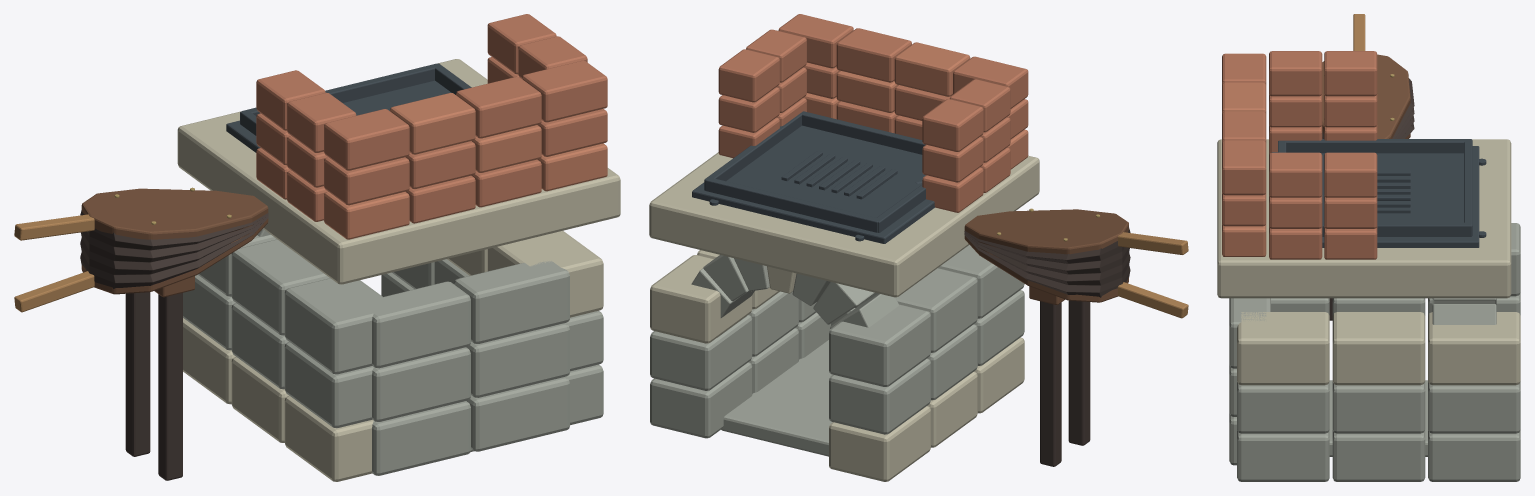
File: smithy_cold_forge.glb
The picture shows the model from 3 angles, left to right: view 1: azimuth 30°, elevation 25°; view 2: azimuth 150°, elevation 25°; view 3: azimuth 270°, elevation 25°; orthographic projection. The views are drawn at different scales.
Parts seen in each view (by area): view 1: Hearth bearing slab.001, Bellows upper board.001, Dressed pier course.030, Back wall course.011, Folded leather chamber.001, Back wall course.010, Back wall course.007, Back wall course.009, Back wall course.006, Back wall course.008, Dressed pier course.031, Dressed pier course.024 (+38 smaller); view 2: Hearth bearing slab.001, Cold pan.001, Ash chamber floor.001, Dressed pier course.032, Bellows upper board.001, Folded leather chamber.001, Dressed pier course.035, Dressed pier course.029, Dressed pier course.026, Dressed pier course.020, Dressed pier course.023, Dressed pier course.031 (+46 smaller); view 3: Hearth bearing slab.001, Cold pan.001, Dressed pier course.034, Dressed pier course.033, Dressed pier course.035, Dressed pier course.028, Dressed pier course.022, Dressed pier course.027, Dressed pier course.029, Dressed pier course.023, Dressed pier course.021, Pan rim.004 (+33 smaller).
Boxes of the visible parts, <box> form: Hearth bearing slab.001: <box>177,59,620,284</box>; Bellows upper board.001: <box>81,188,268,239</box>; Dressed pier course.030: <box>284,278,395,374</box>; Back wall course.011: <box>454,261,569,343</box>; Folded leather chamber.001: <box>80,210,268,288</box>; Back wall course.010: <box>372,281,470,368</box>; Back wall course.007: <box>467,377,569,451</box>; Back wall course.009: <box>466,323,569,397</box>; Back wall course.006: <box>372,401,470,475</box>; Back wall course.008: <box>372,347,470,421</box>; Dressed pier course.031: <box>231,239,329,335</box>; Dressed pier course.024: <box>284,342,373,428</box>; Hearth bearing slab.001: <box>649,152,1039,297</box>; Cold pan.001: <box>692,125,934,243</box>; Ash chamber floor.001: <box>721,340,832,456</box>; Dressed pier course.032: <box>829,304,930,386</box>; Bellows upper board.001: <box>964,209,1128,254</box>; Folded leather chamber.001: <box>964,228,1130,297</box>; Dressed pier course.035: <box>650,255,752,343</box>; Dressed pier course.029: <box>650,315,752,390</box>; Dressed pier course.026: <box>829,358,930,434</box>; Dressed pier course.020: <box>829,406,930,481</box>; Dressed pier course.023: <box>650,362,752,438</box>; Dressed pier course.031: <box>895,268,977,352</box>; Hearth bearing slab.001: <box>1217,139,1511,298</box>; Cold pan.001: <box>1271,146,1479,247</box>; Dressed pier course.034: <box>1332,312,1425,385</box>; Dressed pier course.033: <box>1237,312,1329,385</box>; Dressed pier course.035: <box>1428,312,1520,385</box>; Dressed pier course.028: <box>1332,381,1425,433</box>; Dressed pier course.022: <box>1332,430,1425,481</box>; Dressed pier course.027: <box>1237,381,1329,433</box>; Dressed pier course.029: <box>1428,381,1520,433</box>; Dressed pier course.023: <box>1428,429,1520,481</box>; Dressed pier course.021: <box>1237,430,1329,481</box>; Pan rim.004: <box>1279,139,1471,153</box>.
Size of the model in its own units: 2.23 by 1.43 by 1.24.
